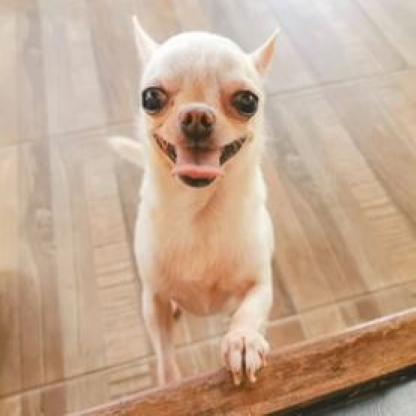chihuahua: (108, 14, 286, 389)
